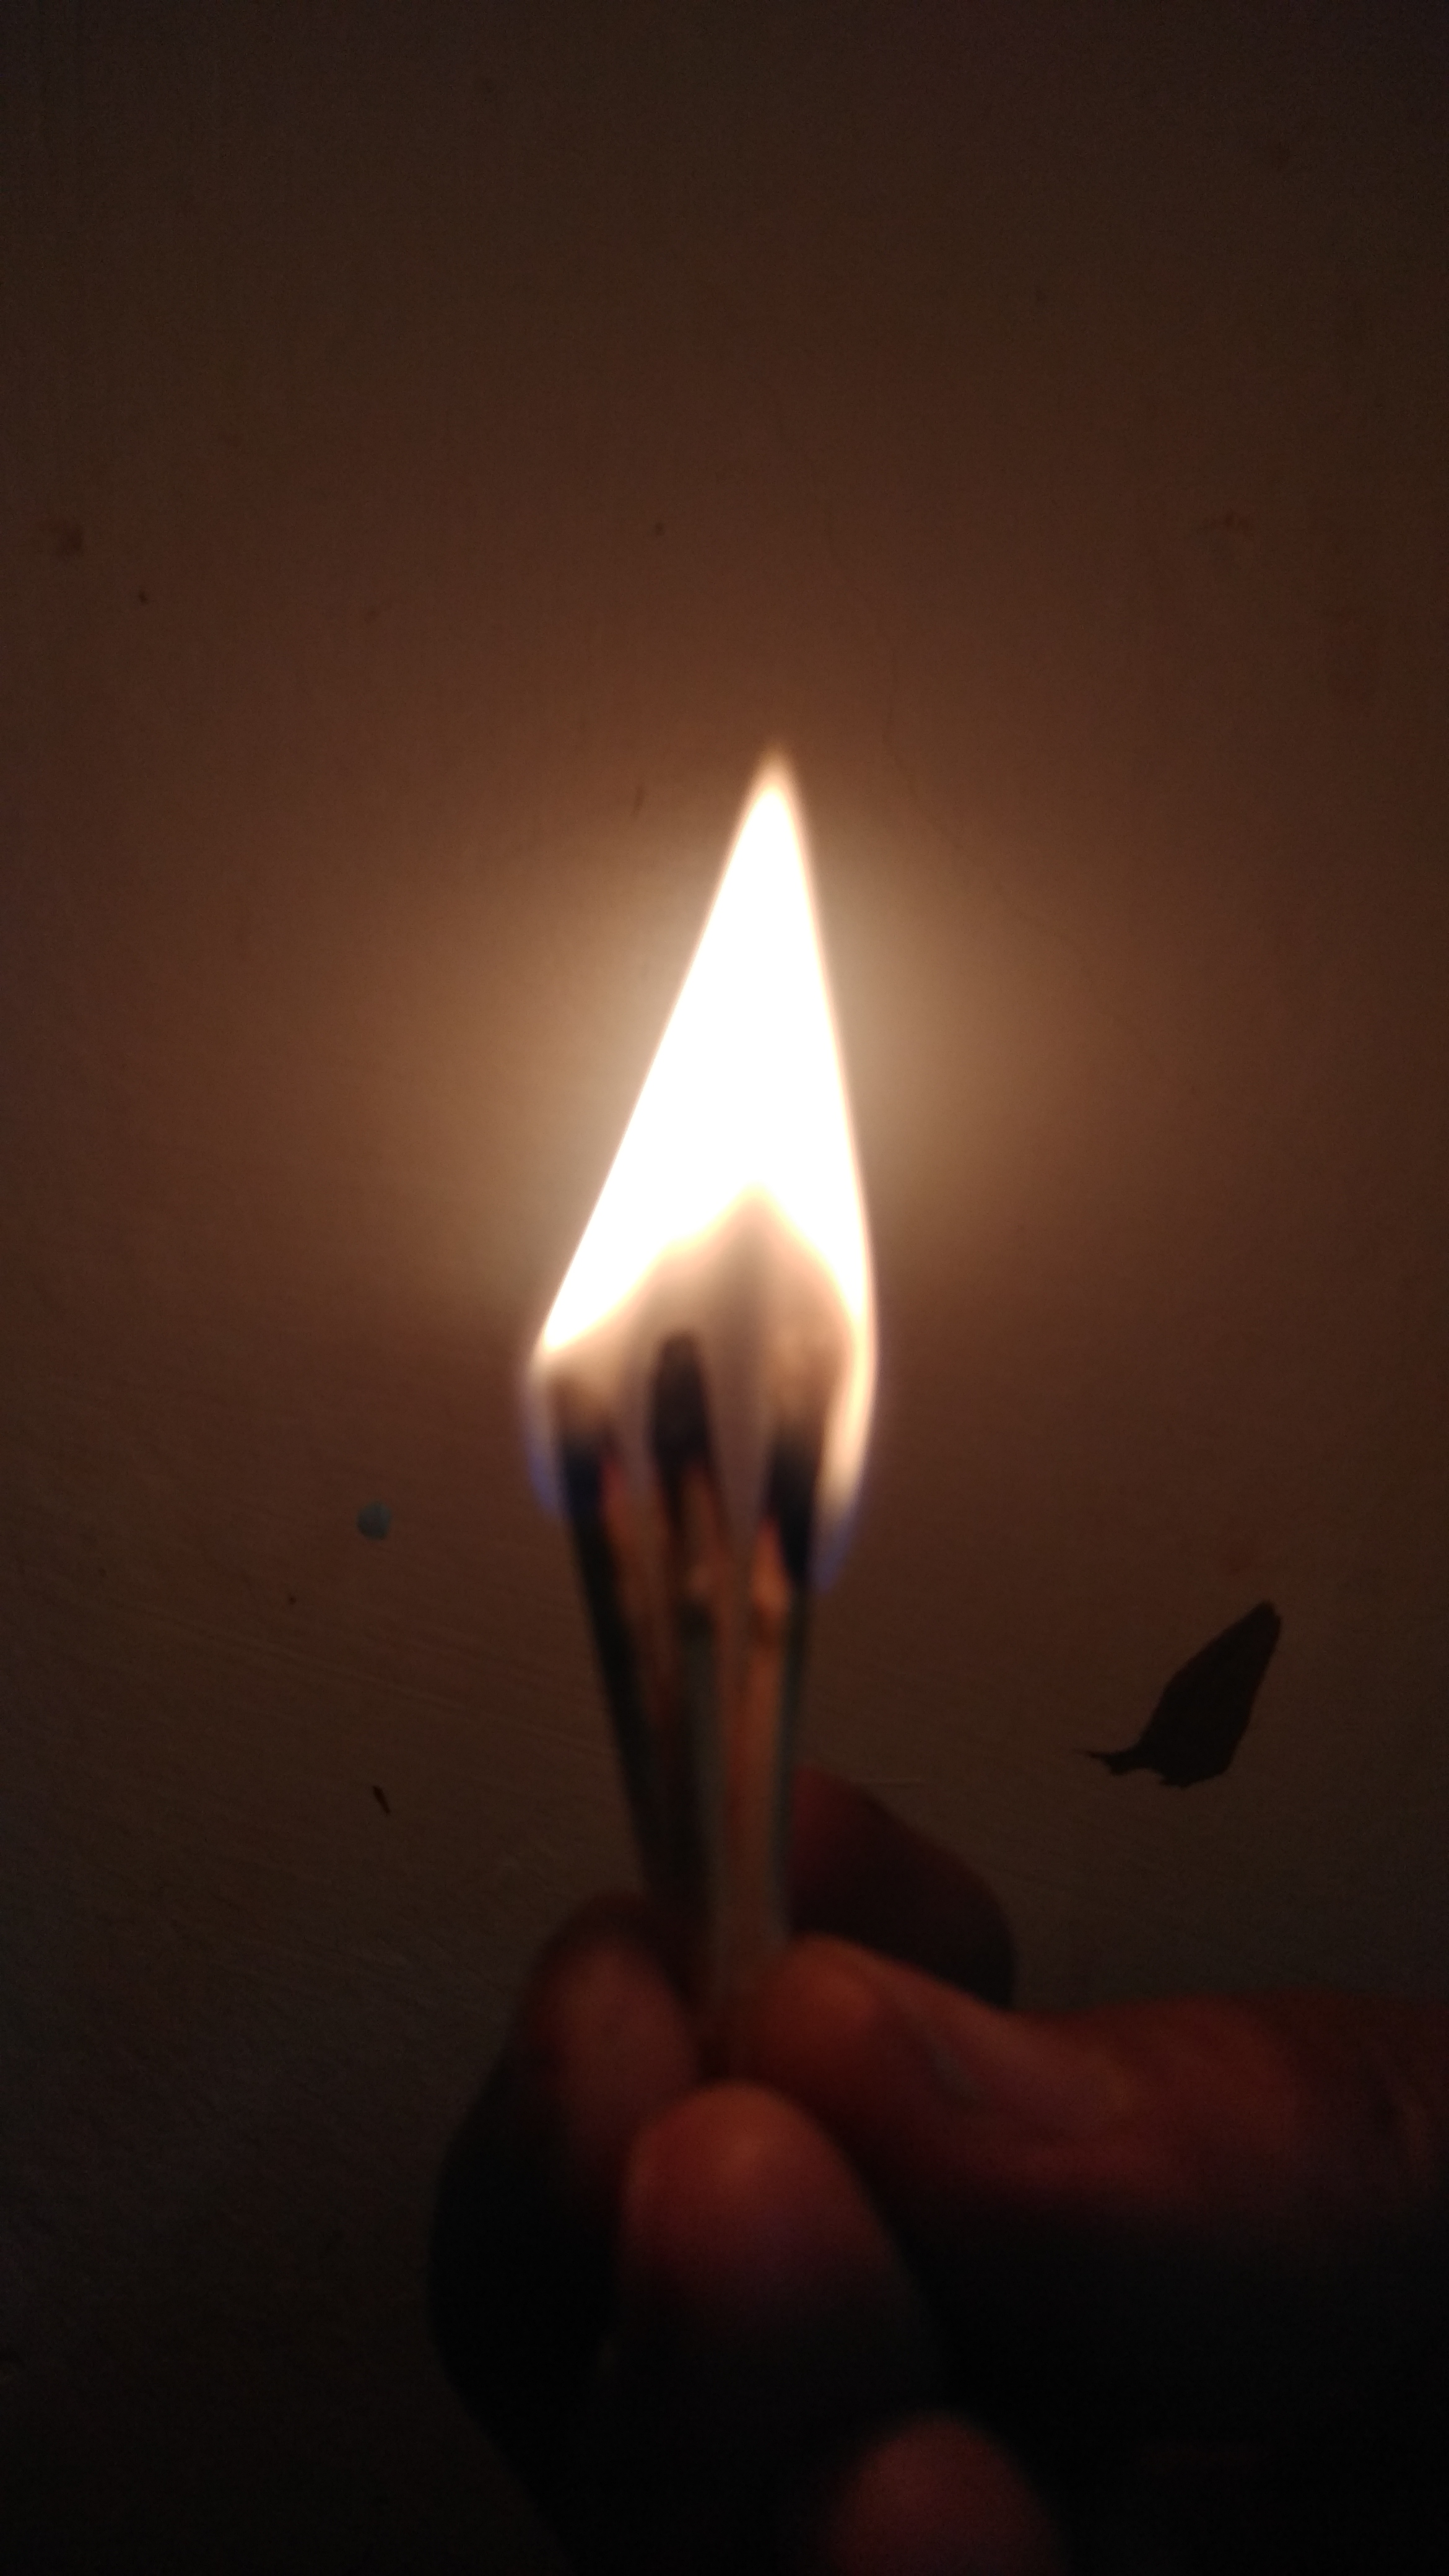Fire: (525, 678, 916, 1589)
